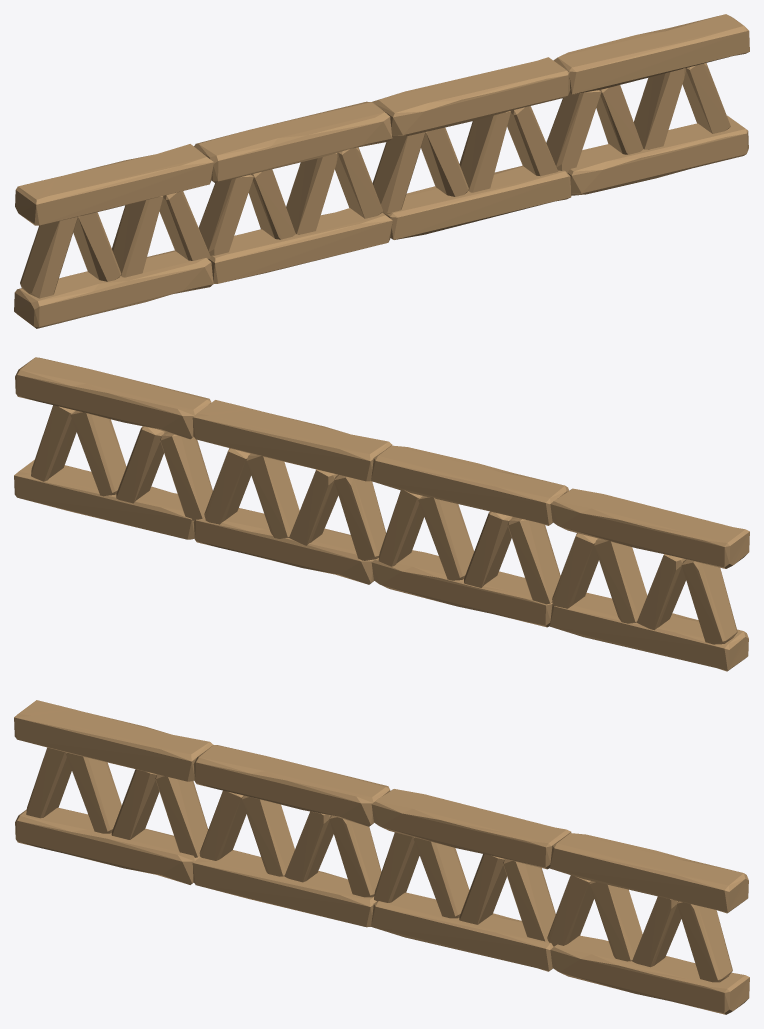
File: SM_railing_sandstone_01.fbx
3 renders of one model, top to bottom at view 1: azimuth 30°, elevation 25°; view 2: azimuth 150°, elevation 25°; view 3: azimuth 330°, elevation 25°, orthographic.
Parts seen in each view (by area): view 1: Group33650; view 2: Group33650; view 3: Group33650.
Boxes of the visible parts, box(x1,y1,x2,y2) form: Group33650: box(14, 14, 749, 328); Group33650: box(14, 357, 749, 671); Group33650: box(14, 700, 749, 1014).
Size of the model in its own units: 199 by 34.31 by 10.78.
